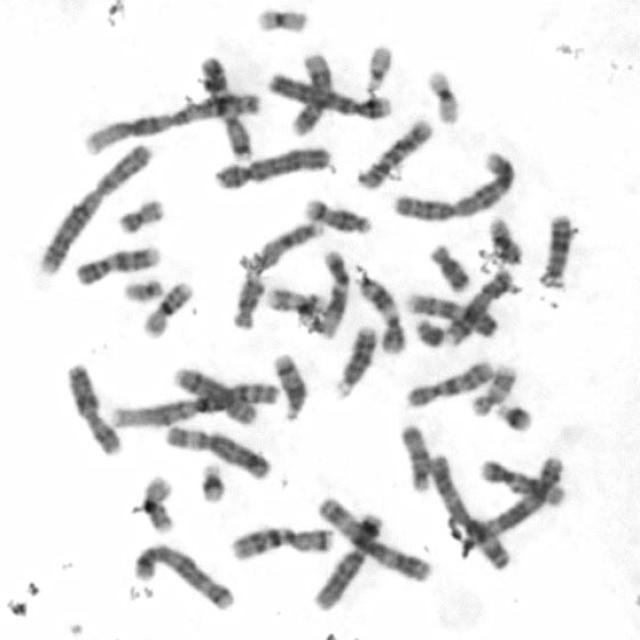A1: (75, 86, 262, 156), (107, 375, 282, 430)
A2: (32, 135, 155, 277), (386, 146, 518, 223)
A3: (311, 490, 436, 584), (424, 448, 515, 572)
B4: (265, 68, 393, 120), (210, 142, 334, 190)
B5: (468, 450, 568, 556), (128, 538, 236, 614)
C10: (353, 114, 435, 190), (399, 353, 498, 410)
C11: (356, 271, 407, 355), (288, 54, 330, 138)
C12: (476, 452, 569, 508), (307, 246, 351, 340)
C6: (308, 506, 386, 613), (159, 418, 273, 482)
C7: (194, 49, 257, 162), (225, 518, 337, 562)
C8: (167, 360, 260, 426), (442, 265, 515, 347)
C9: (401, 287, 499, 340), (72, 240, 164, 288)
D13: (331, 322, 378, 400), (534, 209, 574, 291)
D14: (298, 193, 374, 236), (268, 348, 308, 423)
D15: (250, 216, 326, 271), (396, 419, 432, 495)
E16: (138, 274, 196, 340), (136, 470, 179, 536)
E17: (468, 357, 521, 418), (263, 280, 327, 316)
E18: (426, 238, 474, 294), (227, 271, 266, 330)
F19: (421, 64, 463, 125), (250, 1, 312, 35)
F20: (114, 194, 166, 236), (485, 214, 523, 266)
G21: (491, 396, 537, 434), (194, 458, 228, 504)
G22: (360, 36, 397, 94), (119, 274, 165, 304)
X: (61, 357, 125, 458), (442, 265, 515, 347)
Y: (411, 314, 447, 349)
